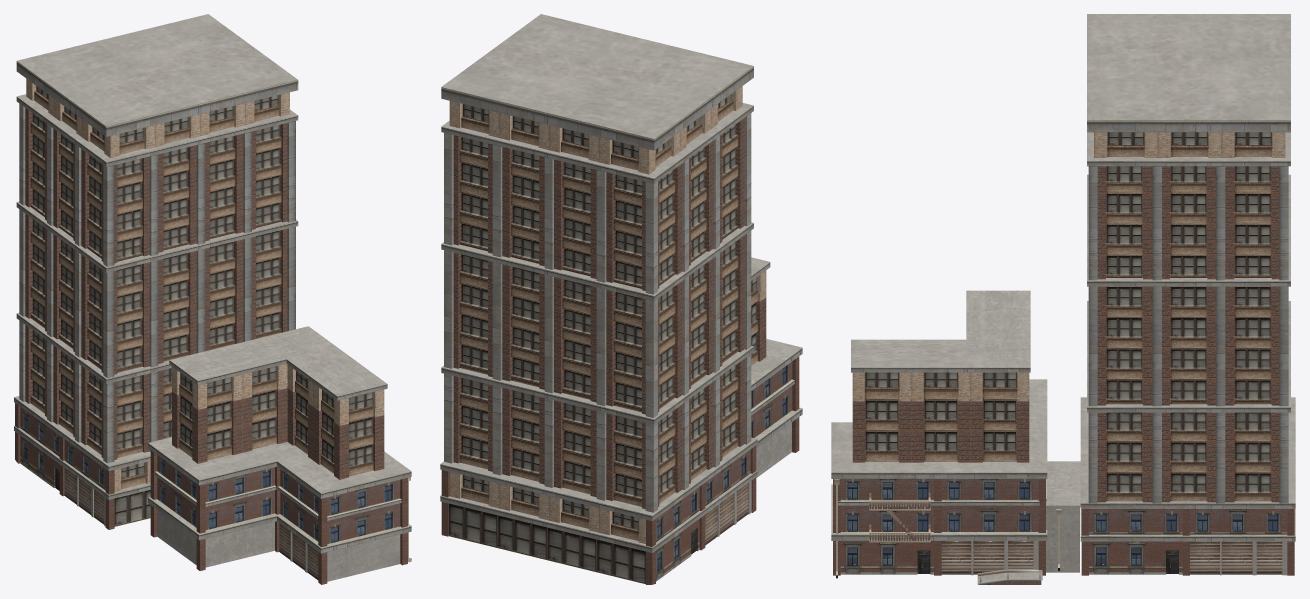
File: edificios.obj
3 views of the same model, side by side, from view 1: azimuth 30°, elevation 25°; view 2: azimuth 150°, elevation 25°; view 3: azimuth 270°, elevation 25° (orthographic). The views are drawn at different scales.
Parts seen in each view (by area): view 1: Object_28, Object_54, Object_10, Object_18, Object_32, Object_48, Object_12, Object_14, Object_26, Object_22, Object_16, Object_38 (+2 smaller); view 2: Object_28, Object_10, Object_18, Object_54, Object_38, Object_32, Object_30, Object_22, Object_12, Object_14, Object_16, Object_20 (+6 smaller); view 3: Object_54, Object_28, Object_10, Object_18, Object_50, Object_24, Object_22, Object_12, Object_14, Object_16, Object_20, Object_56 (+2 smaller).
Boxes of the visible parts, x1,y1,x2,y2 form: Object_28: (25, 108, 287, 459); Object_54: (148, 326, 411, 584); Object_10: (16, 14, 298, 136); Object_18: (19, 103, 295, 463); Object_32: (15, 403, 114, 529); Object_48: (110, 92, 289, 157); Object_12: (16, 94, 298, 166); Object_14: (16, 201, 298, 272); Object_26: (26, 78, 110, 157); Object_22: (14, 396, 150, 471); Object_16: (16, 313, 171, 383); Object_38: (114, 490, 150, 526); Object_28: (453, 118, 744, 508); Object_10: (441, 14, 753, 150); Object_18: (444, 113, 751, 512); Object_54: (751, 257, 802, 477); Object_38: (448, 503, 645, 584); Object_32: (646, 445, 756, 584); Object_30: (449, 101, 648, 174); Object_22: (440, 437, 757, 521); Object_12: (441, 103, 753, 183); Object_14: (441, 222, 753, 301); Object_16: (441, 346, 753, 424); Object_20: (440, 470, 757, 552); Object_54: (831, 290, 1080, 578); Object_28: (1097, 166, 1279, 502); Object_10: (1087, 14, 1290, 132); Object_18: (1088, 166, 1288, 503); Object_50: (1081, 509, 1294, 575); Object_24: (1094, 132, 1285, 157); Object_22: (1080, 397, 1295, 508); Object_12: (1087, 132, 1290, 166); Object_14: (1087, 174, 1290, 286); Object_16: (1087, 301, 1290, 412); Object_20: (1080, 509, 1295, 541); Object_56: (977, 569, 1042, 584).
Size of the model in its own units: 1.73 by 3.22 by 2.96.
